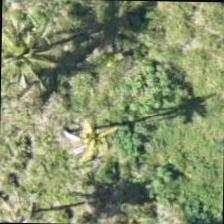Kelapa_Sawit: (38, 86, 130, 177), (0, 11, 78, 102)
